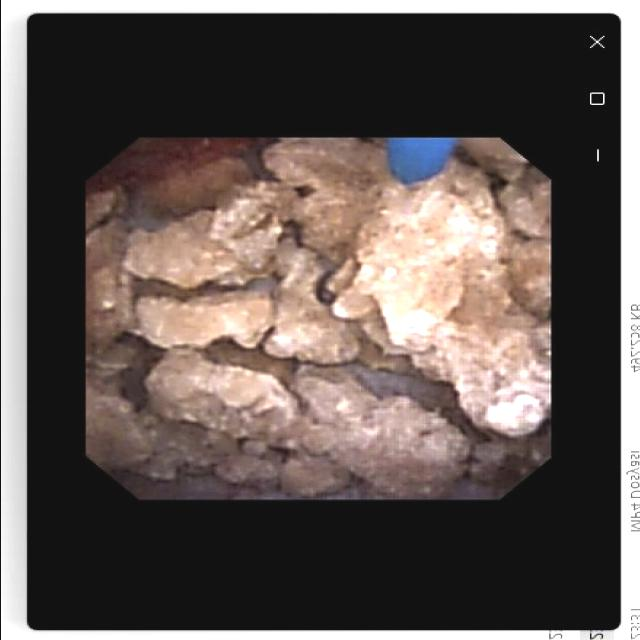fiber: (391, 142, 450, 175)
stone: (88, 144, 543, 495)
